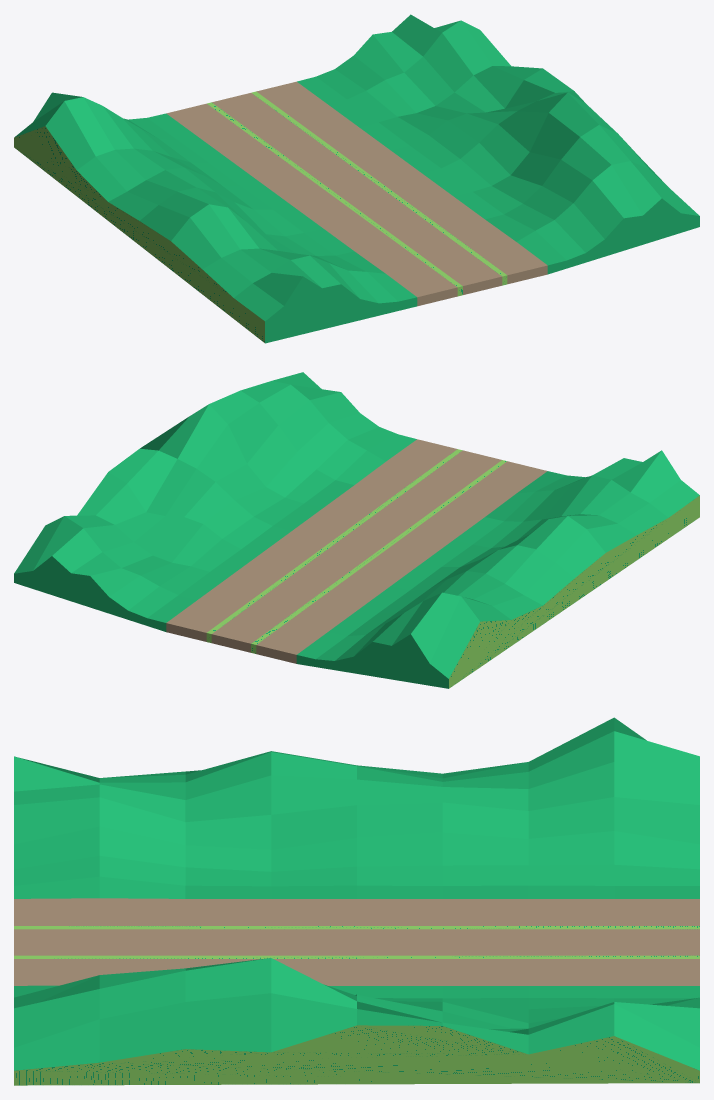
The model's file is RoadBlocksModel.glb.
The picture shows the model from 3 angles, top to bottom: view 1: azimuth 30°, elevation 25°; view 2: azimuth 150°, elevation 25°; view 3: azimuth 270°, elevation 25°; orthographic projection. The views are drawn at different scales.
Parts seen in each view (by area): view 1: RoadBlock1Model; view 2: RoadBlock1Model; view 3: RoadBlock1Model.
Boxes of the visible parts, x1,y1,x2,y2 form: RoadBlock1Model: (14,14,699,343); RoadBlock1Model: (14,372,699,688); RoadBlock1Model: (14,717,699,1085).
Bounding box in the file's own units: 10 × 1.87 × 10.
Materials: 1 (1 with a texture image).
